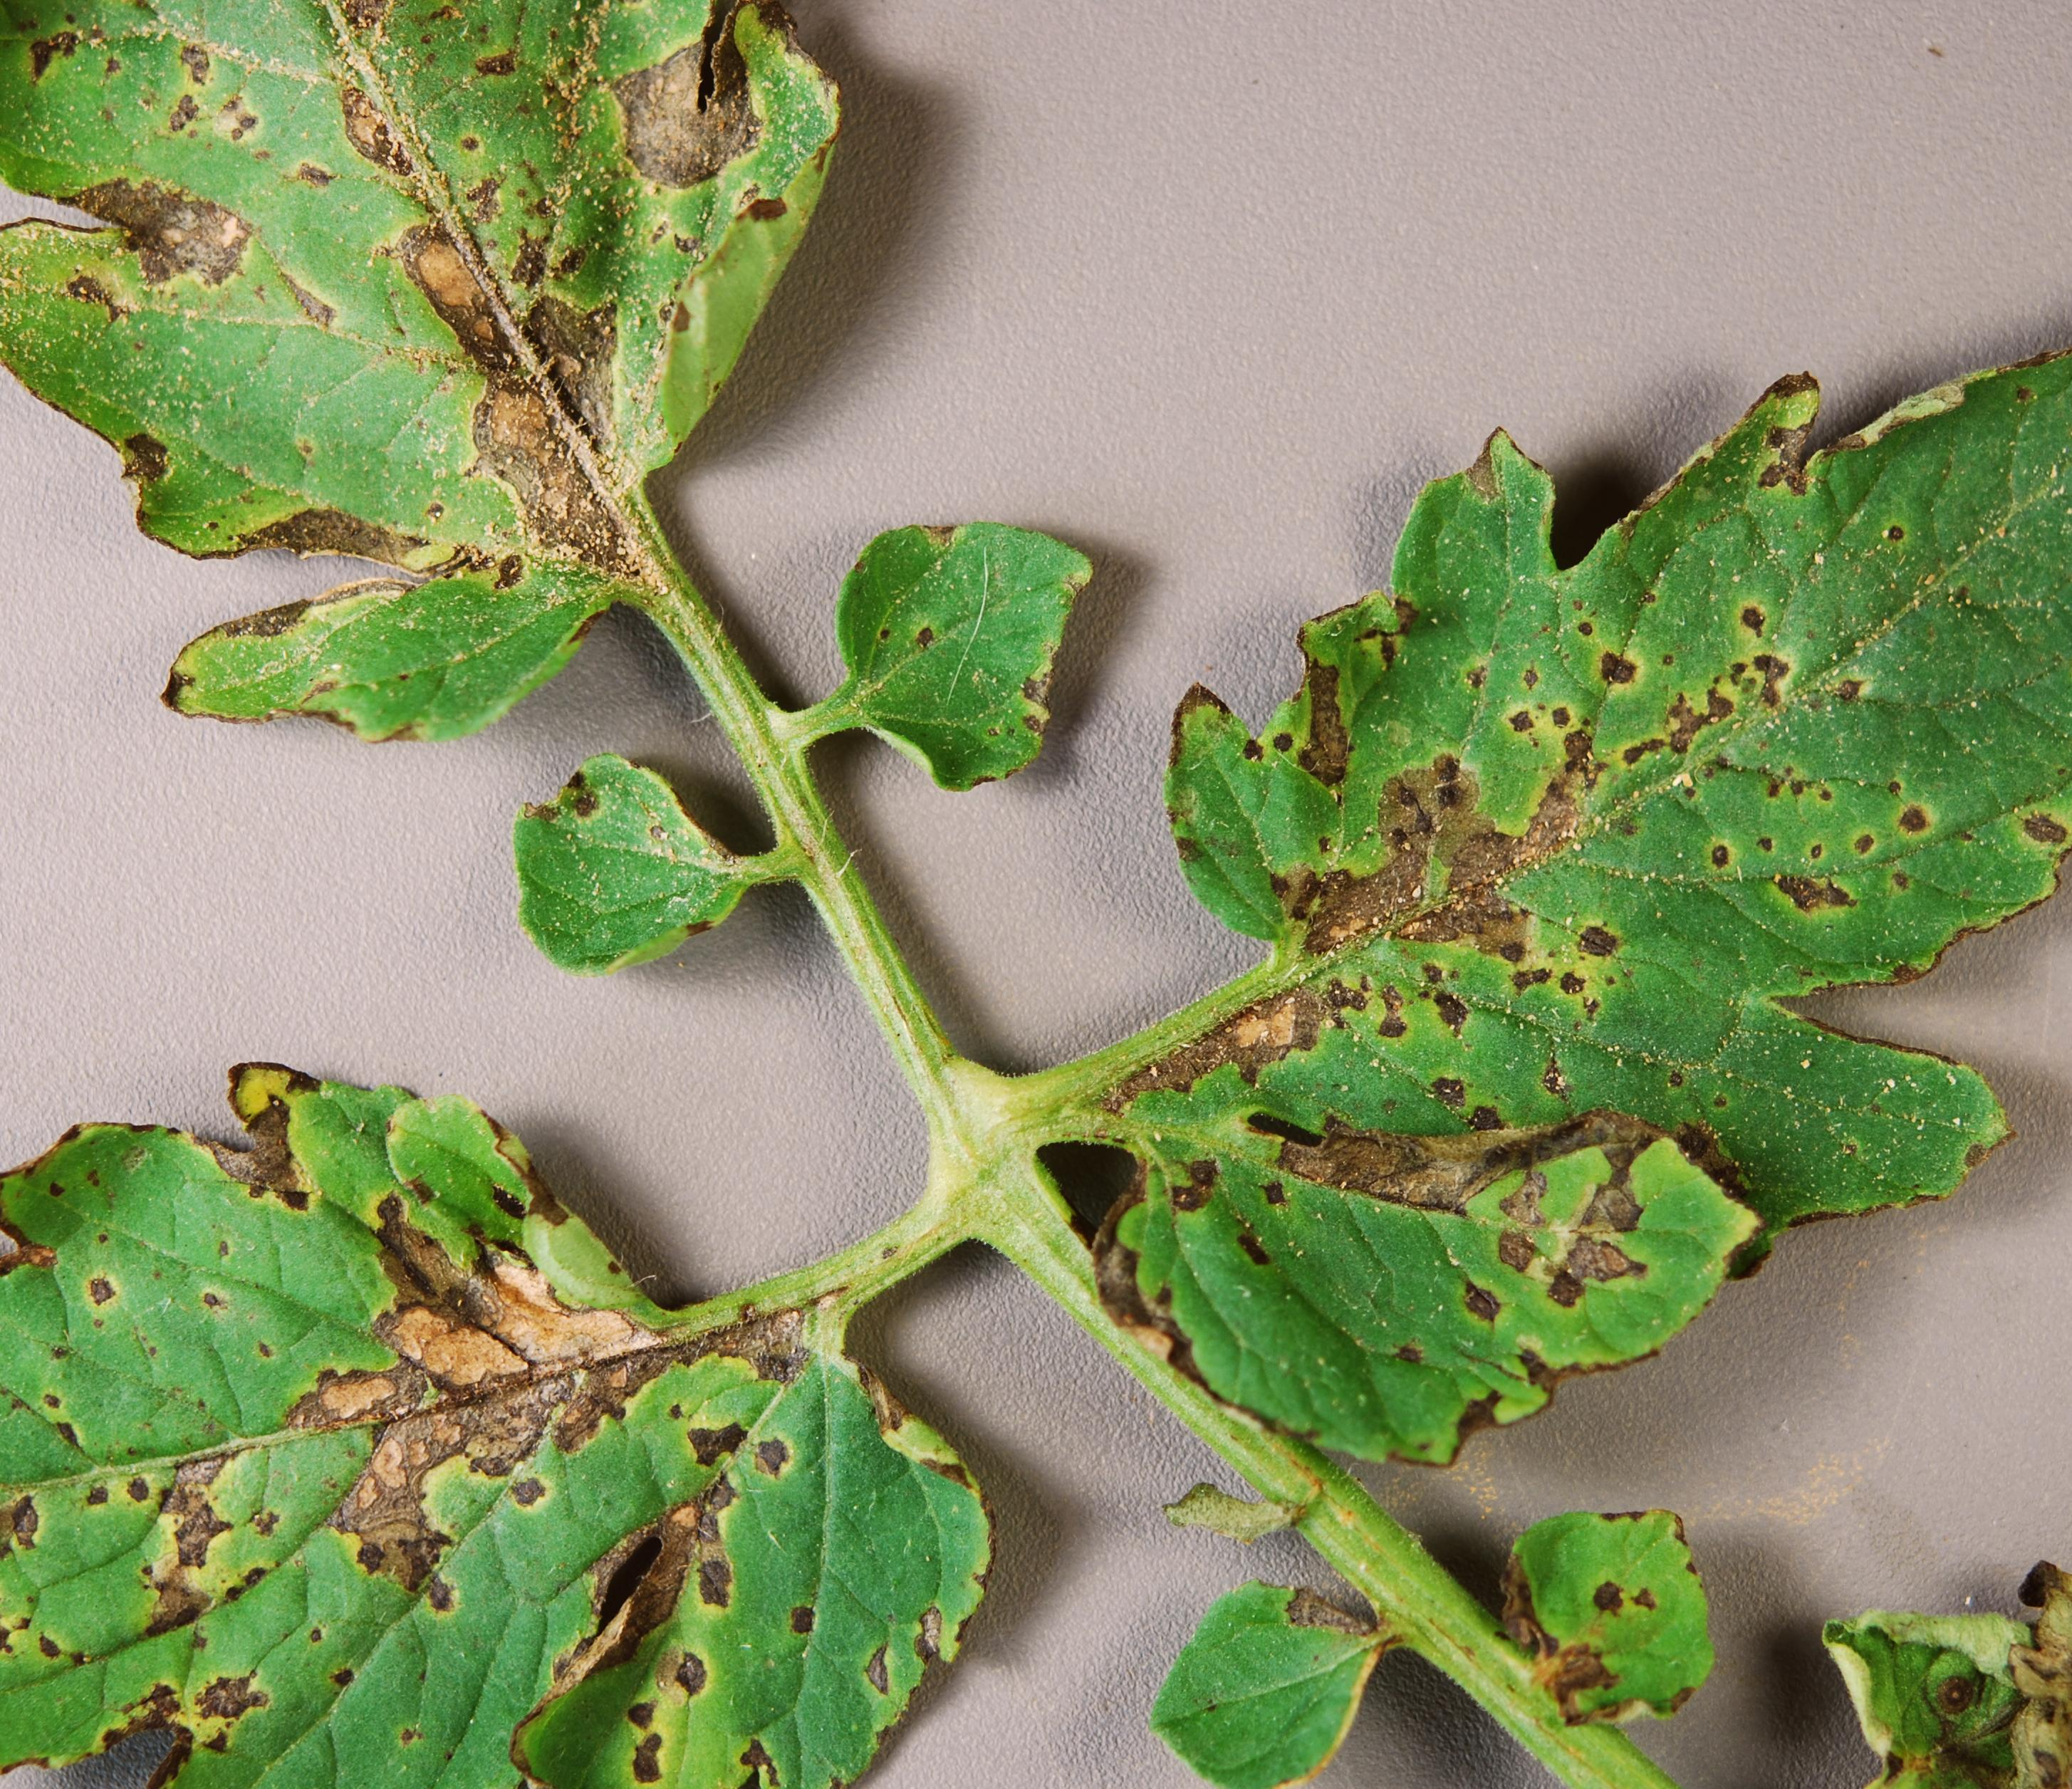Tomato Septoria leaf spot: (1082, 211, 2072, 1254), (0, 0, 877, 924), (0, 1021, 1038, 1789), (1078, 1055, 1804, 1470), (788, 468, 1180, 787)
